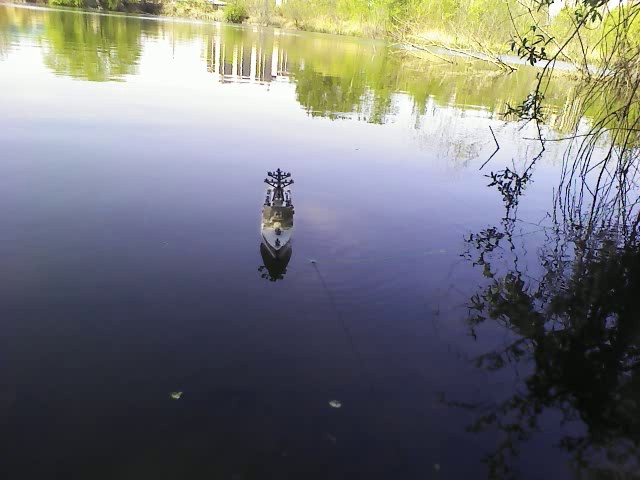warship: (257, 164, 301, 272)
